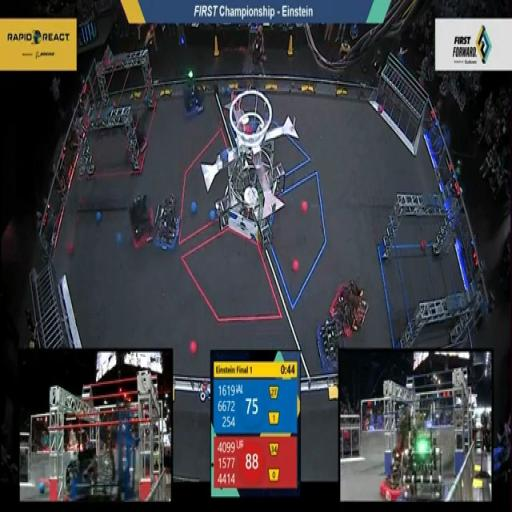robot: (326, 267, 366, 336), (310, 312, 350, 378), (150, 186, 182, 259), (123, 183, 156, 252), (178, 62, 209, 120)
